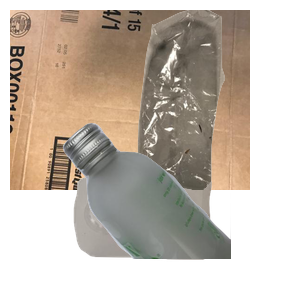cardboard: (10, 10, 250, 190)
glass: (60, 120, 300, 300)
plastic: (71, 169, 275, 300)
trash: (114, 10, 300, 190)
